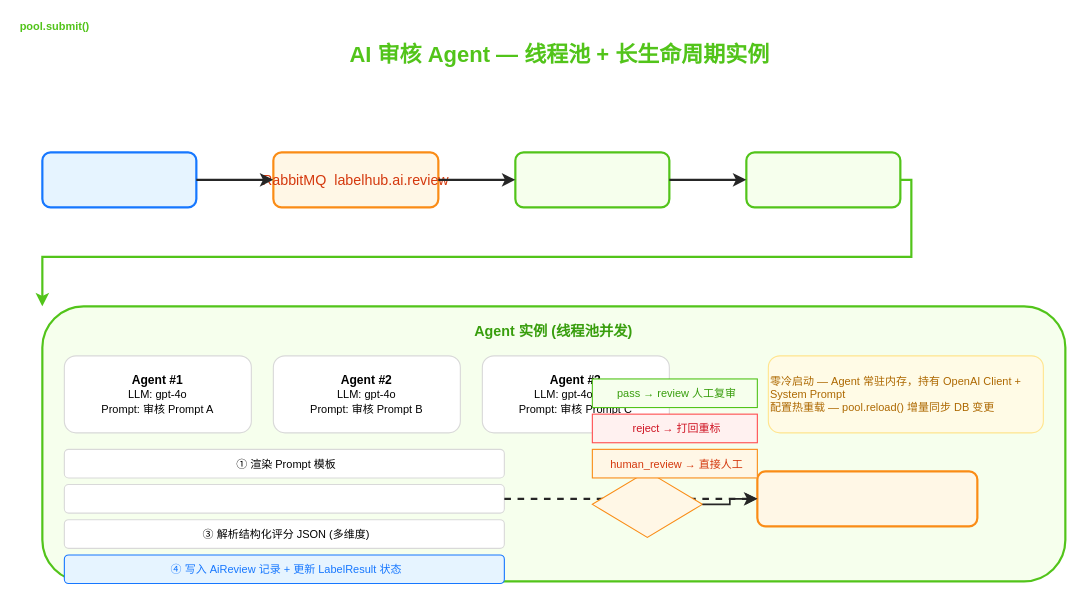
Some shapes in this 1085 by 603 pixel diagram are drawn without their labels. Each missing label, with the centre of its shape:
"AgentPool 线程池" belongs at point 823,179.
"ai_worker MQ 消费者" belongs at point 592,179.
"OpenAI 兼容 API Function Calling" belongs at point 867,498.
"② 调用 OpenAI 兼容 API (Function Calling)" belongs at point 283,498.
"判定结果" belongs at point 646,503.
"标注员 提交结果" belongs at point 119,179.
